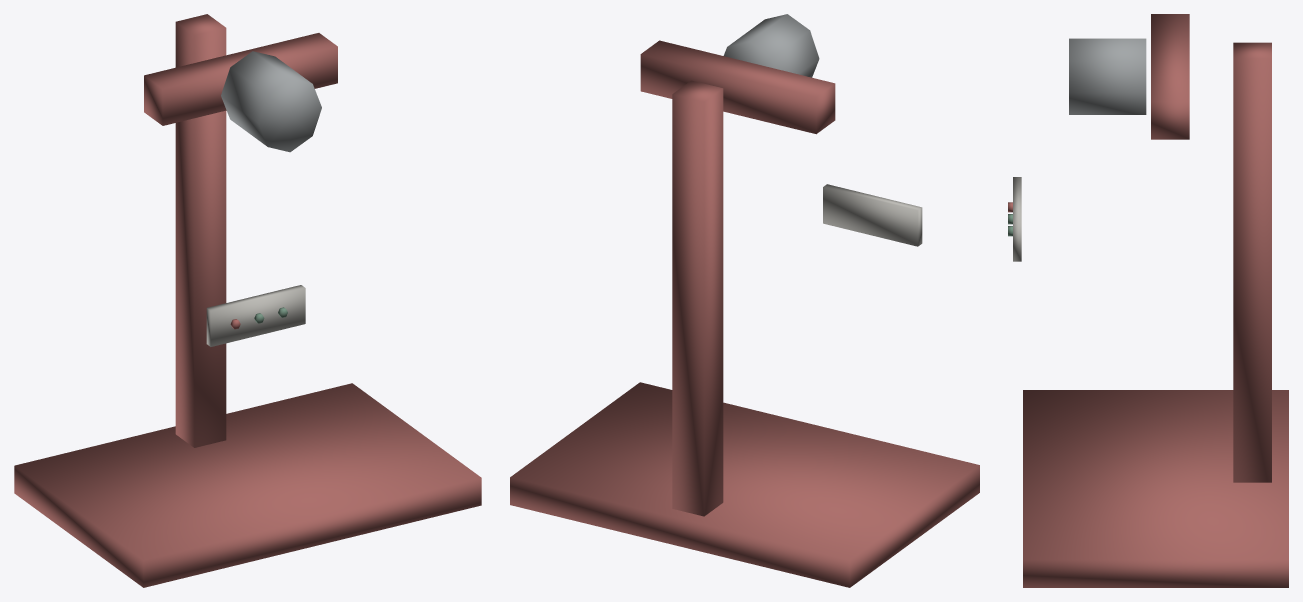
The model's file is engine_stand__compact.glb.
3 renders of one model, left to right at view 1: azimuth 30°, elevation 25°; view 2: azimuth 150°, elevation 25°; view 3: azimuth 270°, elevation 25°, orthographic. The views are drawn at different scales.
Visible parts, largest first — view 1: world; view 2: world; view 3: world.
Boxes of the visible parts, x1,y1,x2,y2 form: world: (14, 14, 481, 587); world: (510, 14, 979, 587); world: (1008, 14, 1288, 587).
Bounding box in the file's own units: 0.714 × 0.9114 × 0.4997.
